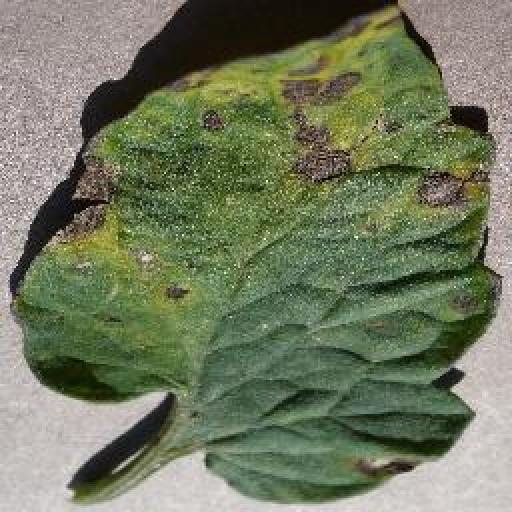disease_tomato: (15, 5, 503, 504)
